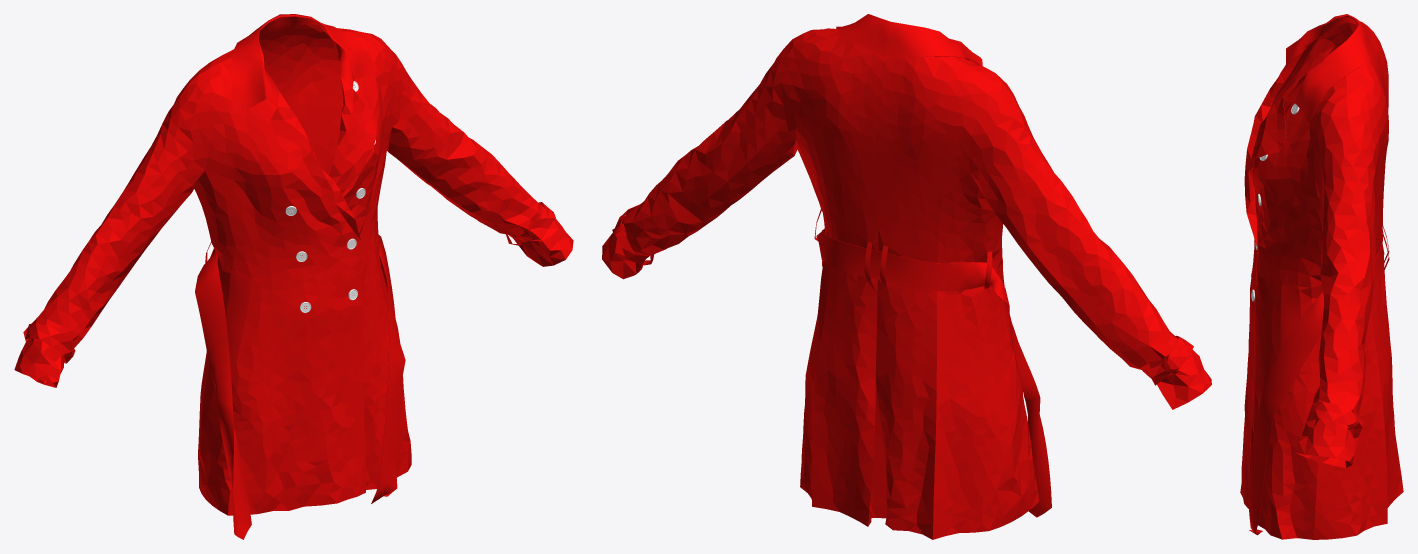
File: asset.gltf
3 renders of one model, left to right at view 1: azimuth 30°, elevation 25°; view 2: azimuth 150°, elevation 25°; view 3: azimuth 270°, elevation 25°, orthographic. The views are drawn at different scales.
Parts seen in each view (by area): view 1: Cloth; view 2: Cloth; view 3: Cloth.
Part boxes in pixels (<box>): Cloth: <box>14,14,573,539</box>; Cloth: <box>602,14,1211,539</box>; Cloth: <box>1240,14,1403,539</box>.
Bounding box in the file's own units: 1.12 × 0.9137 × 0.2751.
Materials: 2 (2 with a texture image).
